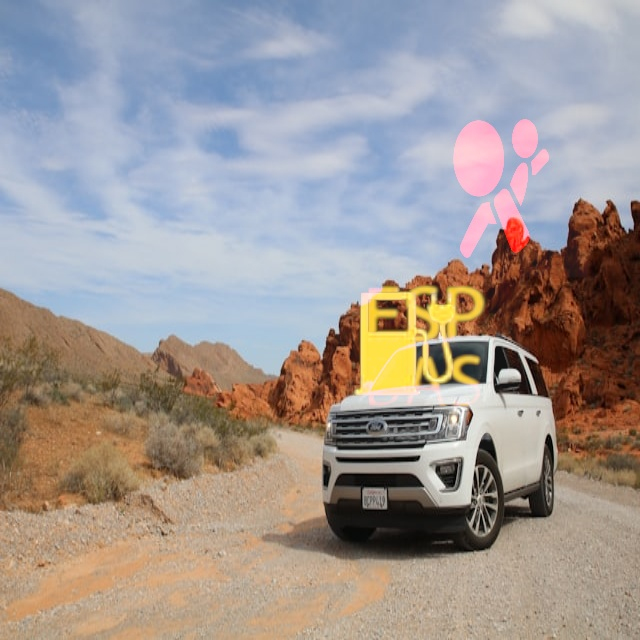symbol: (302, 242, 510, 450), (327, 250, 524, 447), (402, 91, 588, 277)
